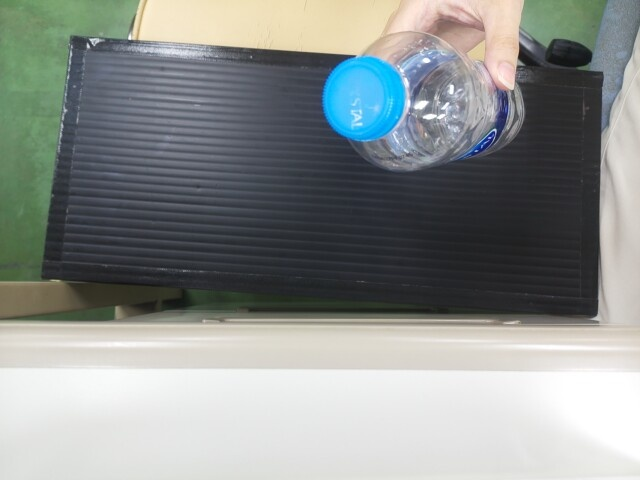plastic_bottle: (332, 34, 520, 169)
